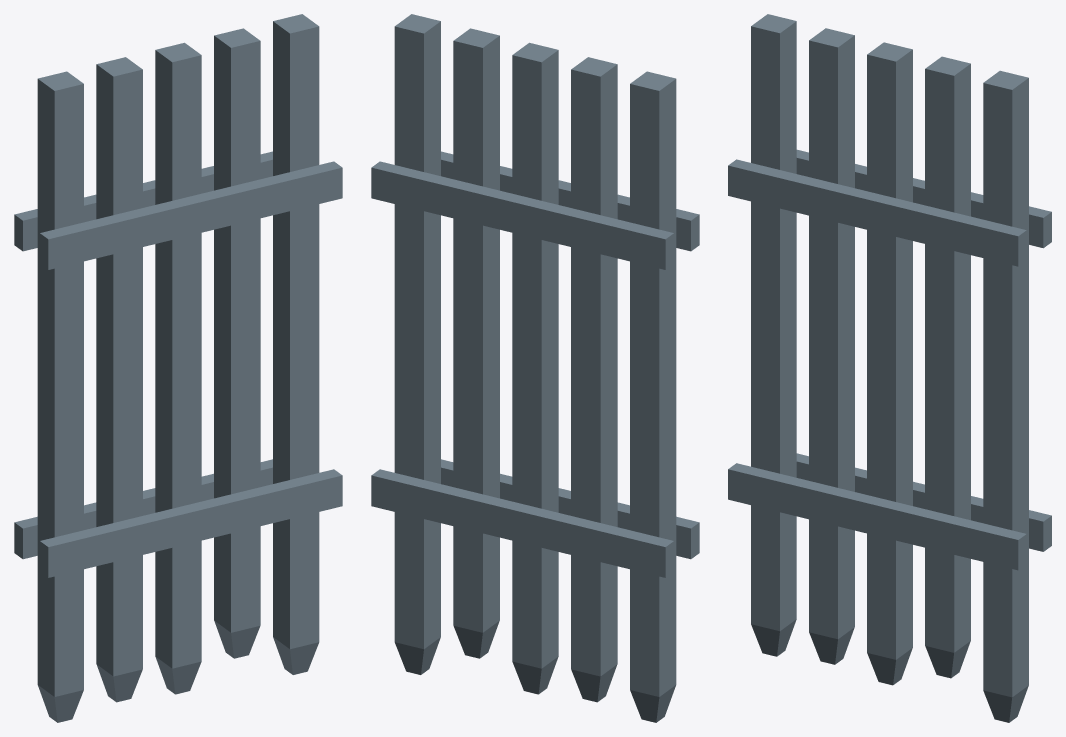
File: door.fbx
The picture shows the model from 3 angles, left to right: view 1: azimuth 30°, elevation 25°; view 2: azimuth 150°, elevation 25°; view 3: azimuth 330°, elevation 25°; orthographic projection.
Parts seen in each view (by area): view 1: Cube; view 2: Cube; view 3: Cube.
Part boxes in pixels (left/top/right/bottom): Cube: left=14, top=14, right=342, bottom=722; Cube: left=371, top=14, right=699, bottom=722; Cube: left=728, top=14, right=1051, bottom=722.
Size of the model in its own units: 100 by 210 by 20.
